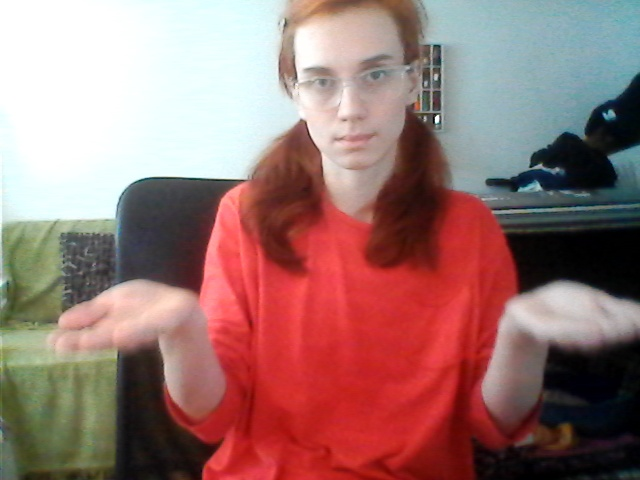alebo: (54, 273, 640, 371)
